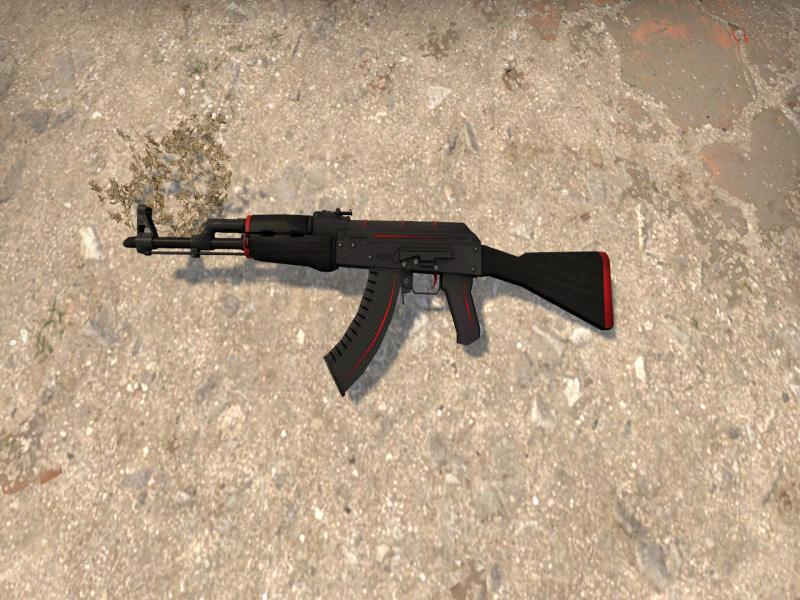AK47: (123, 205, 614, 394)
